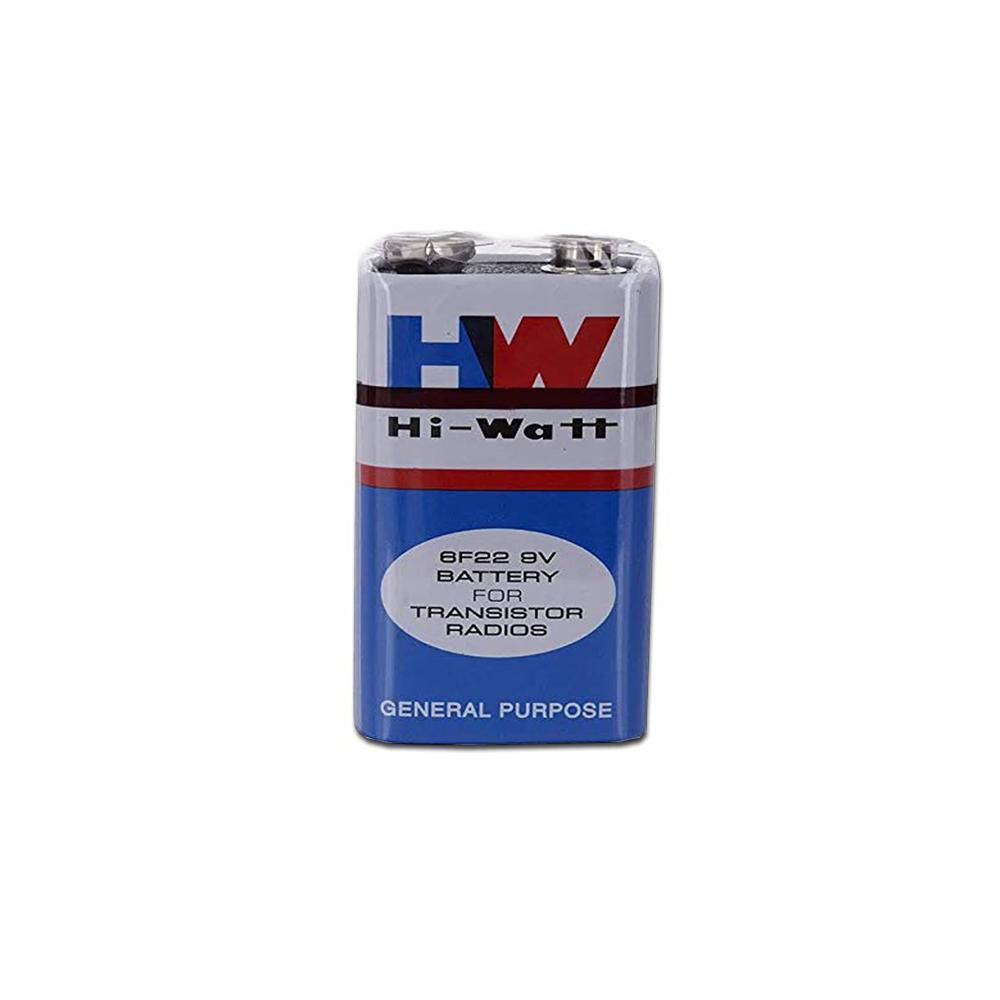9V Battery: (348, 229, 667, 753)
